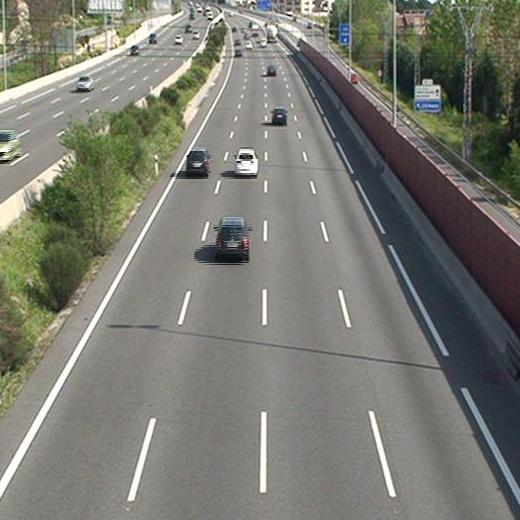car: (215, 220, 250, 256), (234, 146, 258, 177), (187, 149, 209, 174), (271, 107, 286, 124), (268, 65, 276, 77)
